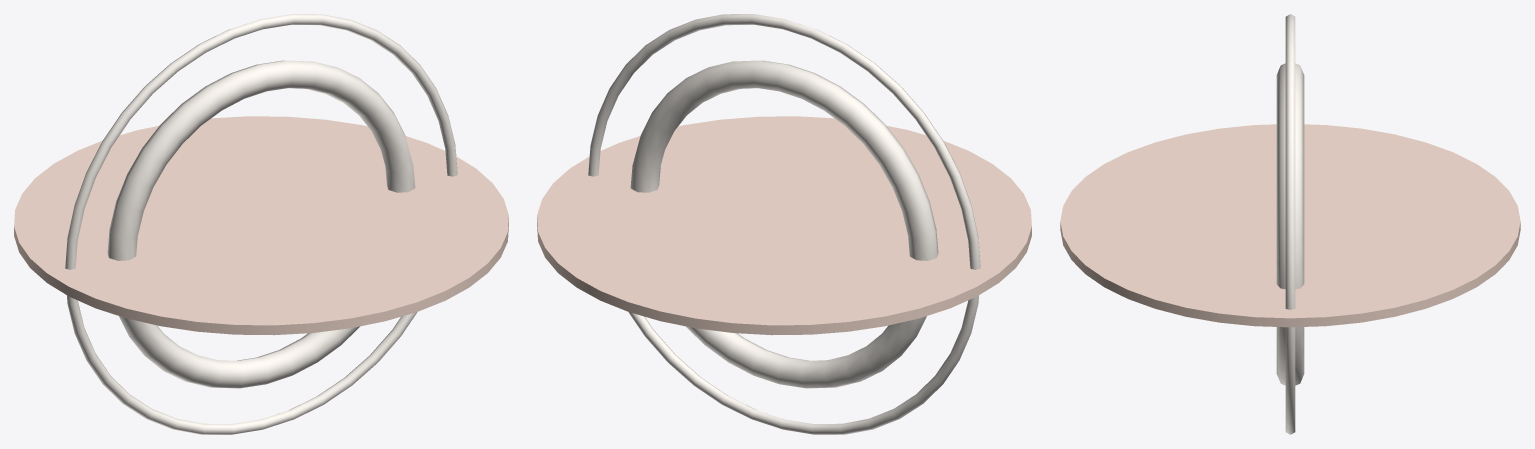
Rendered from fl_rug.glb.
3 views of the same model, side by side, from view 1: azimuth 30°, elevation 25°; view 2: azimuth 150°, elevation 25°; view 3: azimuth 270°, elevation 25° (orthographic). The views are drawn at different scales.
Parts seen in each view (by area): view 1: fl_rug; view 2: fl_rug; view 3: fl_rug.
Part boxes in pixels (x1,y1,x2,y2): fl_rug: (14, 14, 508, 434); fl_rug: (537, 14, 1031, 434); fl_rug: (1060, 14, 1520, 434).
Bounding box in the file's own units: 1.84 × 1.68 × 1.84.
